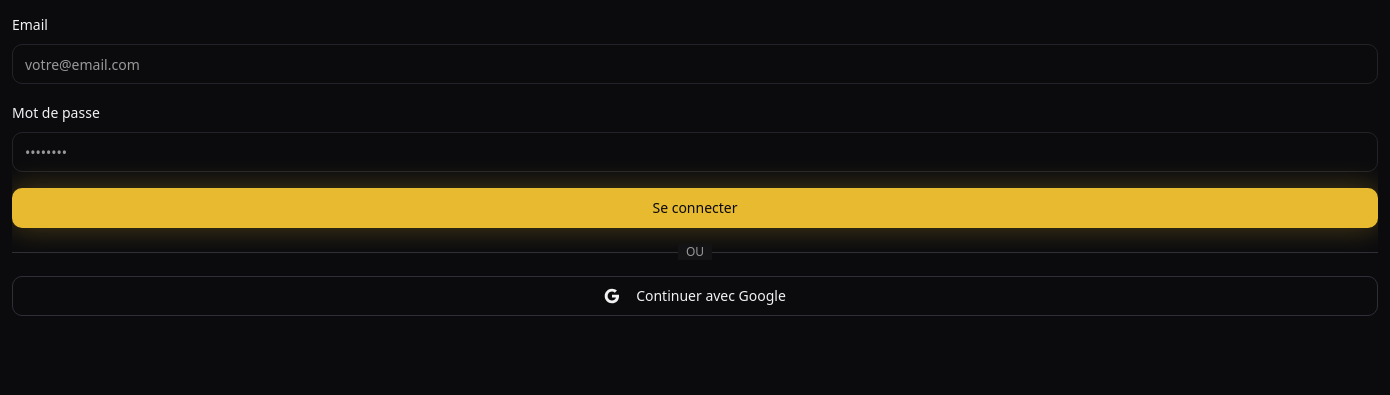
Test: LoginForm › displays error message on invalid credentials
Type "test@example.com" into the field labelled "Email".
click(695, 64); type("test@example.com")  # box [12,44,1378,84]
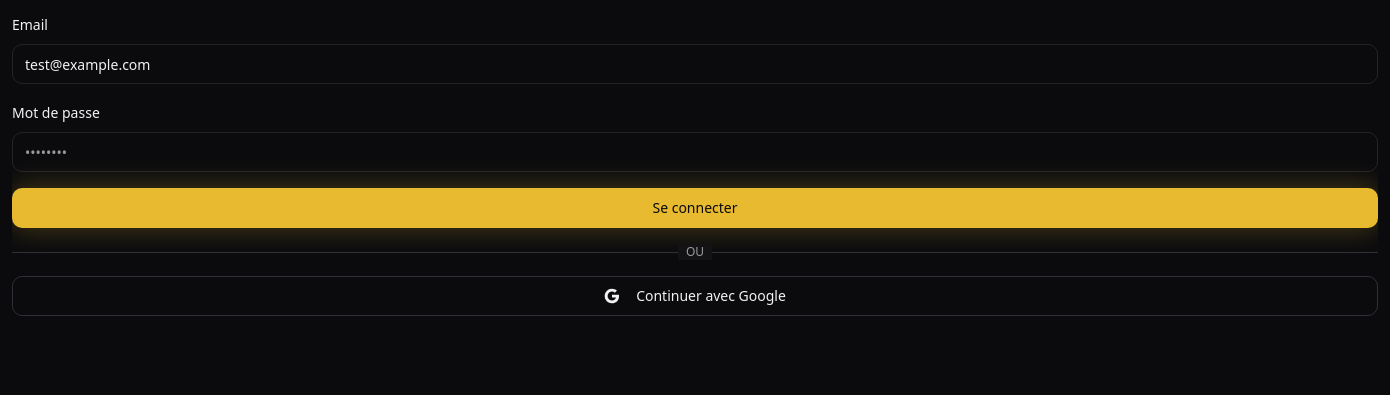
Type "wrongpassword" into the password field labelled "Mot de passe".
click(695, 152); type("wrongpassword")  # box [12,132,1378,172]
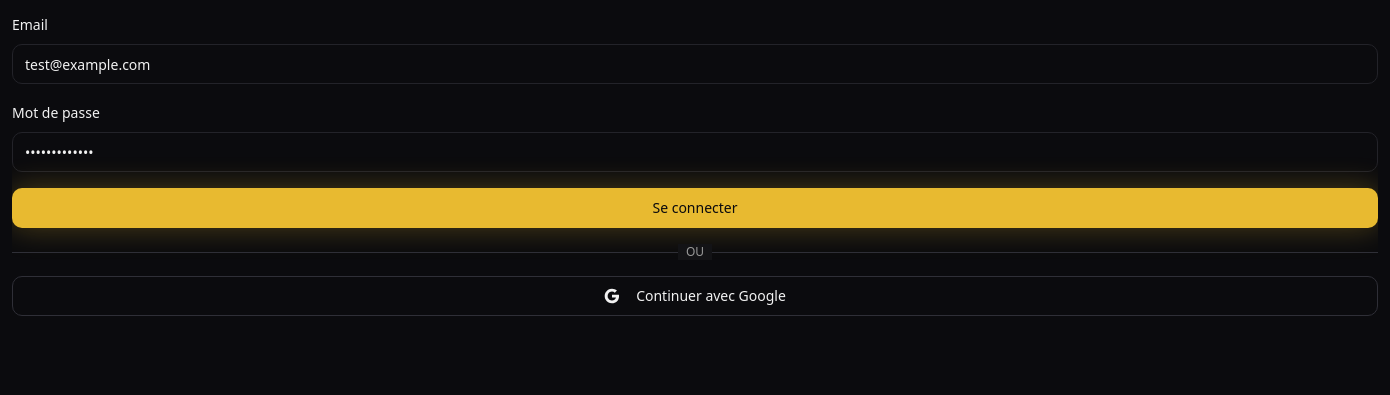
Click the button "Se connecter".
click(695, 208)  # box [12,188,1378,228]
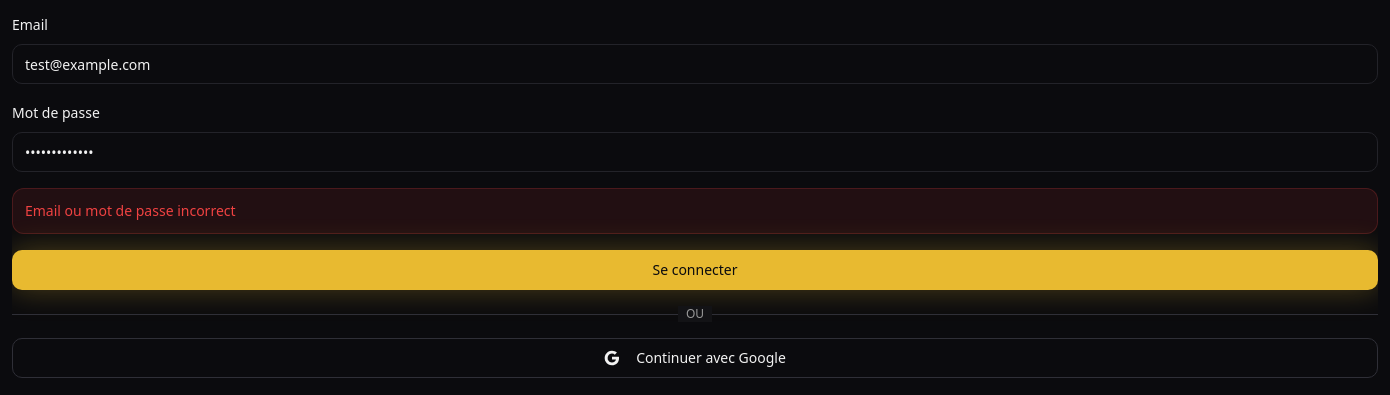
Expected: the text "Email ou mot de passe incorrect" is shown, [25,201,236,220]
